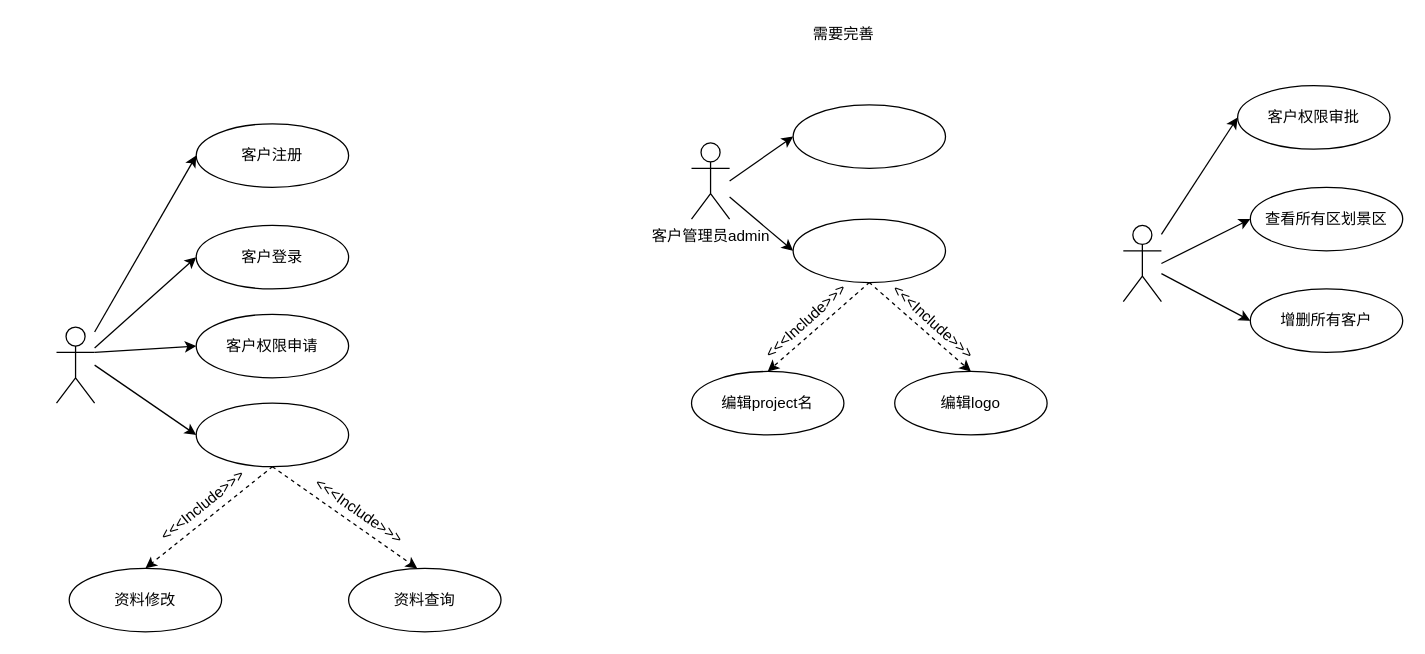
Image size: 1425x654. Some labels were removed from this diagram. The shapes that lost their labels are listed below. From the top down, each one's box as (x1, y1, x2, y2) in pixels, then its label:
(792, 104, 946, 168): 查看已关联区划景区
(792, 218, 946, 283): 编辑区划景区
(1122, 224, 1161, 302): 超级管理员boss
(55, 326, 95, 403): 普通客户normal
(195, 402, 349, 467): 客户信息维护
